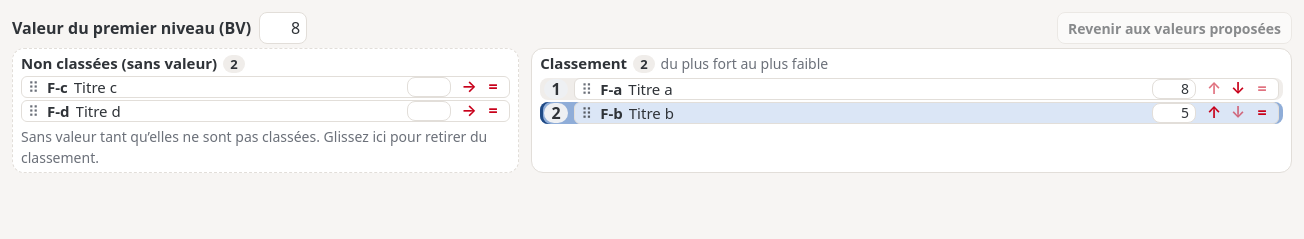
Test: CriterionRankingComponent › proposes a value to every level once the top value is typed, and flags an invalid one
Replace the text in the field with id "ranking-top-value" with "2": (283, 28) [259,12,307,44]
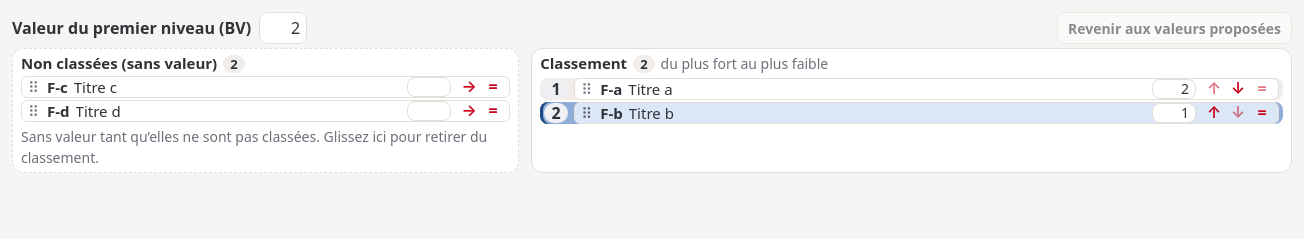
Replace the text in the field with id "ranking-top-value" with "12": (283, 28) [259,12,307,44]
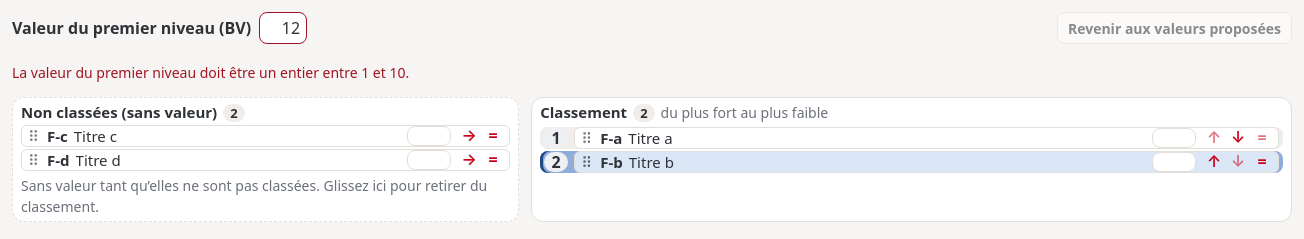
expect the message "La valeur du premier niveau doit être un entier entre 1 et 10." is shown: met, box [12,63,409,82]
